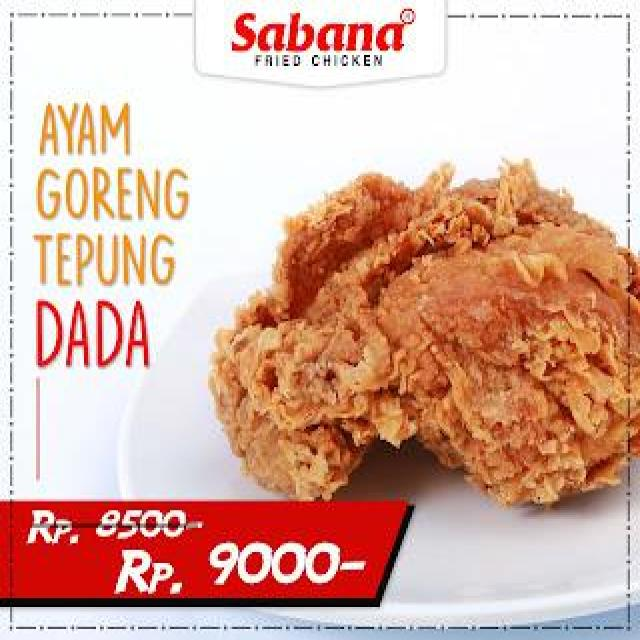Chicken -Fried Chicken-: (208, 158, 632, 511)
